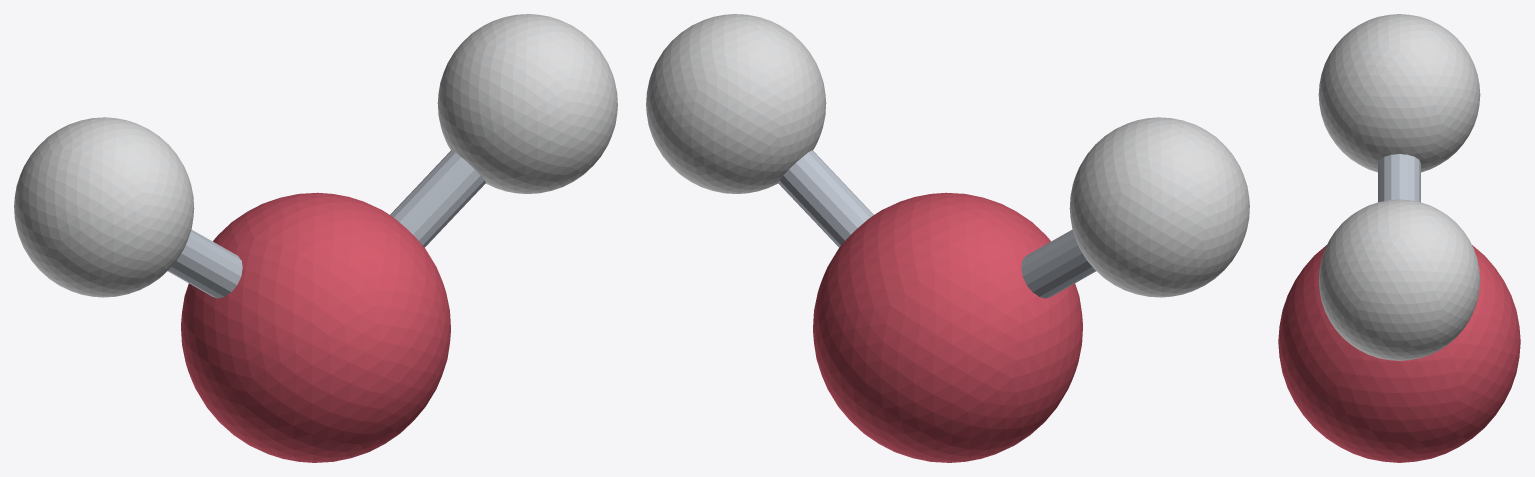
Rendered from molecula.glb.
3 views of the same model, side by side, from view 1: azimuth 30°, elevation 25°; view 2: azimuth 150°, elevation 25°; view 3: azimuth 270°, elevation 25° (orthographic). The views are drawn at different scales.
Visible parts, largest first — view 1: 1_O, 2_H, 3_H, world; view 2: 1_O, 2_H, 3_H, world; view 3: 1_O, 3_H, 2_H, world.
Part boxes in pixels (x1=…): 1_O: x1=181, y1=192, x2=450, y2=462; 2_H: x1=14, y1=117, x2=194, y2=297; 3_H: x1=437, y1=14, x2=617, y2=193; world: x1=167, y1=150, x2=485, y2=298; 1_O: x1=813, y1=192, x2=1082, y2=462; 2_H: x1=1069, y1=117, x2=1249, y2=297; 3_H: x1=646, y1=14, x2=826, y2=193; world: x1=778, y1=150, x2=1096, y2=298; 1_O: x1=1278, y1=245, x2=1520, y2=462; 3_H: x1=1318, y1=199, x2=1480, y2=360; 2_H: x1=1318, y1=14, x2=1480, y2=172; world: x1=1378, y1=154, x2=1420, y2=202.
Bounding box in the file's own units: 2.08 × 1.29 × 0.84.
